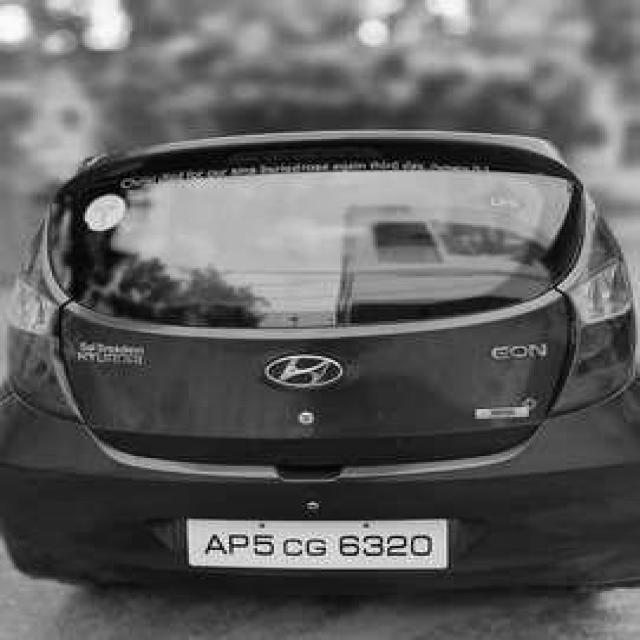car: (4, 119, 640, 602)
license-plate: (184, 518, 451, 570)
